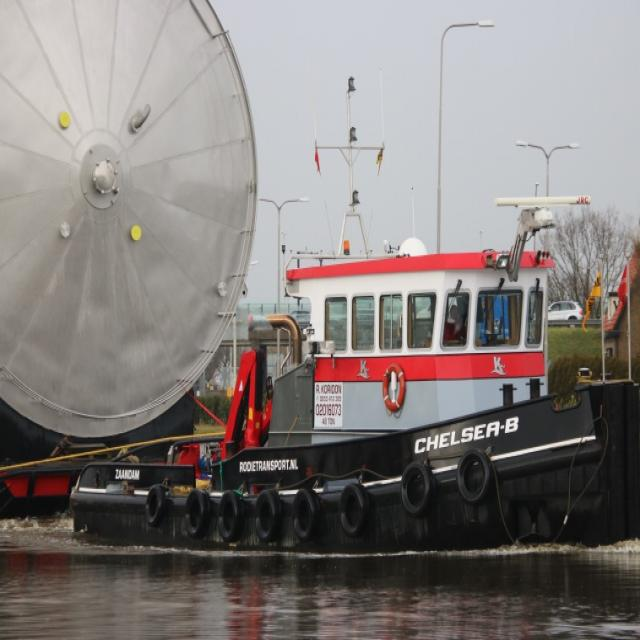tugboat: (66, 188, 640, 573)
